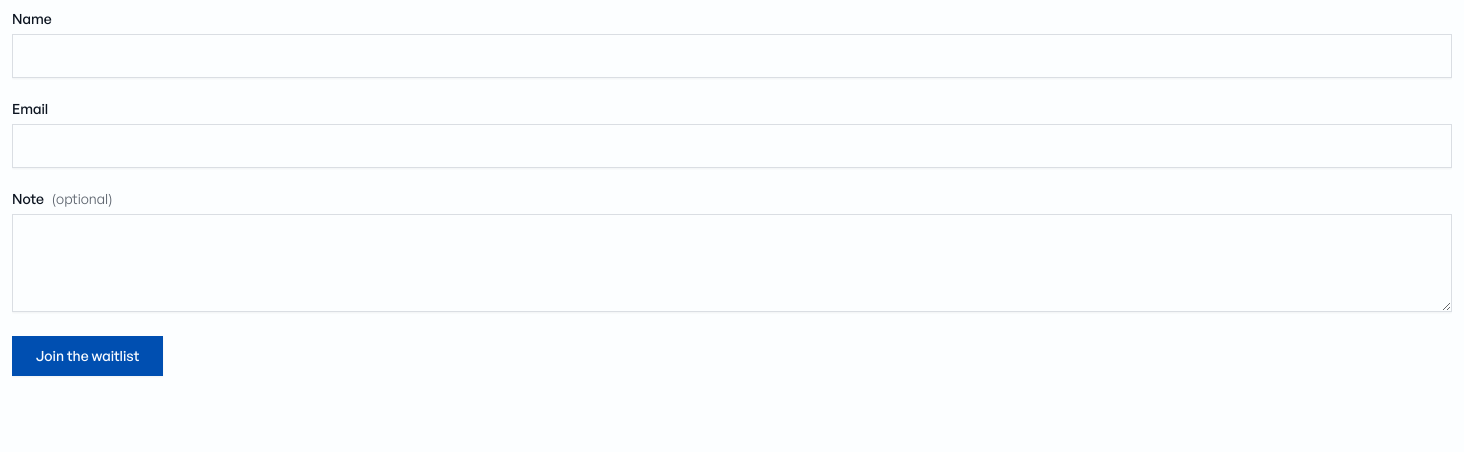
Test case: WaitlistForm › shows inline validation errors for invalid input
This screenshot has width=1464, height=452.
Step 1. Click the button "Join the waitlist" → (88, 356), box [12,336,163,376]
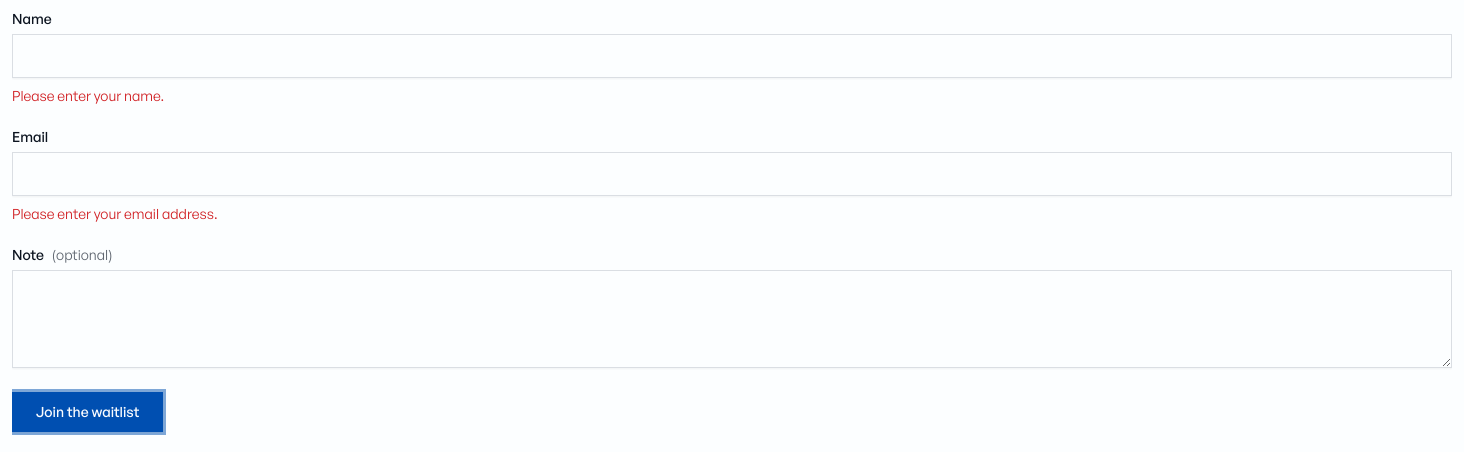
Check: the text "Please enter your name." is shown, box [12,87,164,104]
Check: the text "Please enter your email address." is shown, box [12,205,218,222]
